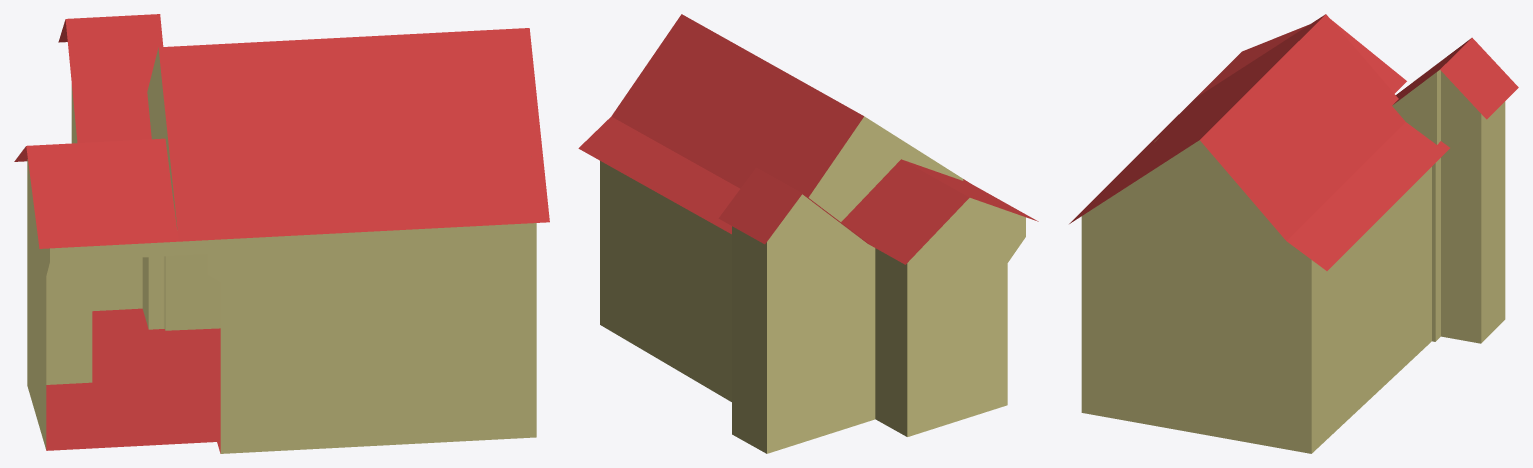
The picture shows the model from 3 angles, left to right: view 1: azimuth 30°, elevation 25°; view 2: azimuth 150°, elevation 25°; view 3: azimuth 270°, elevation 25°; orthographic projection. The views are drawn at different scales.
Bounding box in the file's own units: 24.99 × 21.67 × 15.84.
